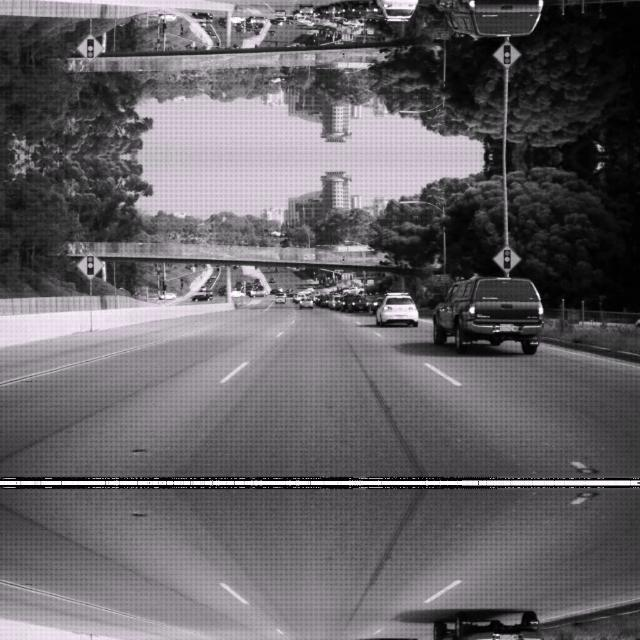signalAhead: (491, 242, 521, 272), (491, 40, 521, 70), (76, 248, 104, 278), (76, 34, 104, 64), (338, 51, 348, 60), (338, 252, 348, 260)
